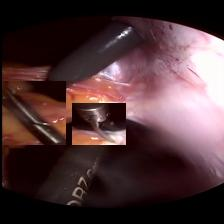Grasper: (0, 81, 65, 145)
Scissors: (71, 103, 125, 145)
